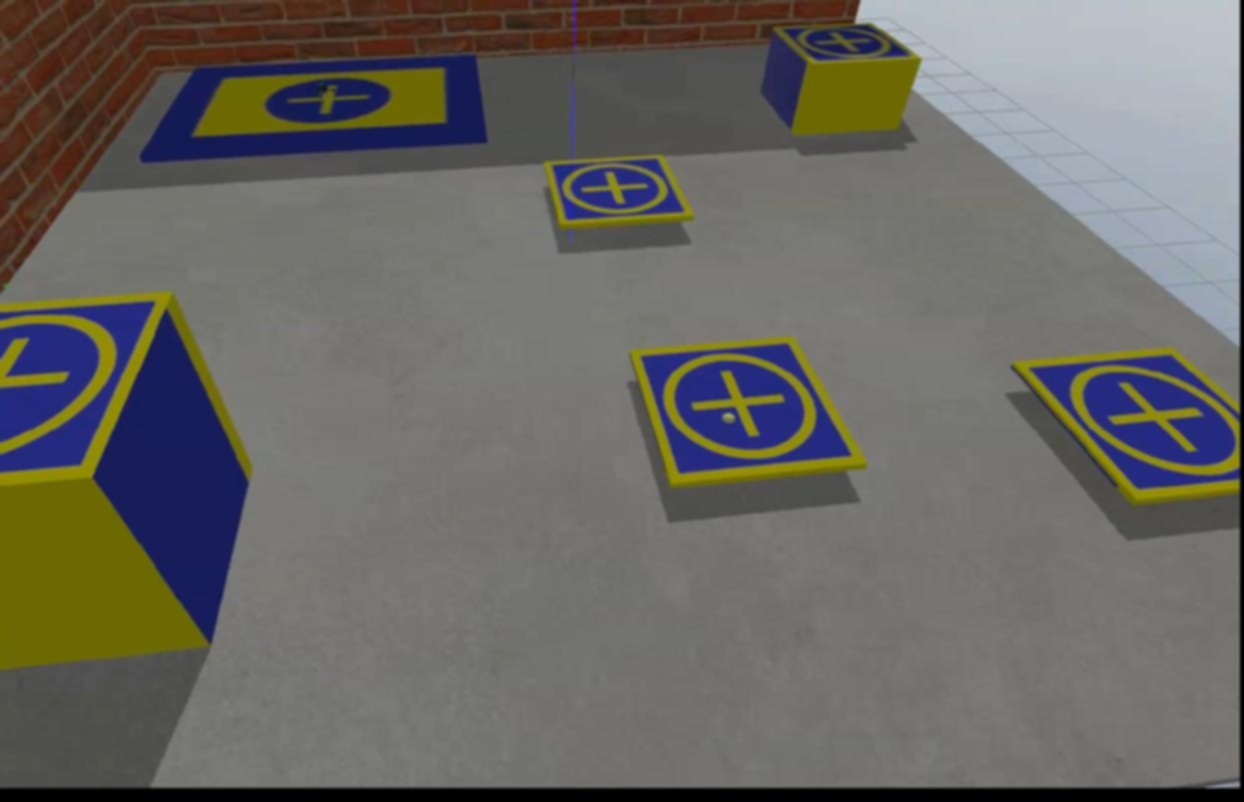large_base: (146, 64, 495, 159)
small_base: (1011, 340, 1244, 509), (631, 337, 868, 485), (0, 285, 173, 481), (545, 155, 694, 232), (771, 25, 925, 69)
